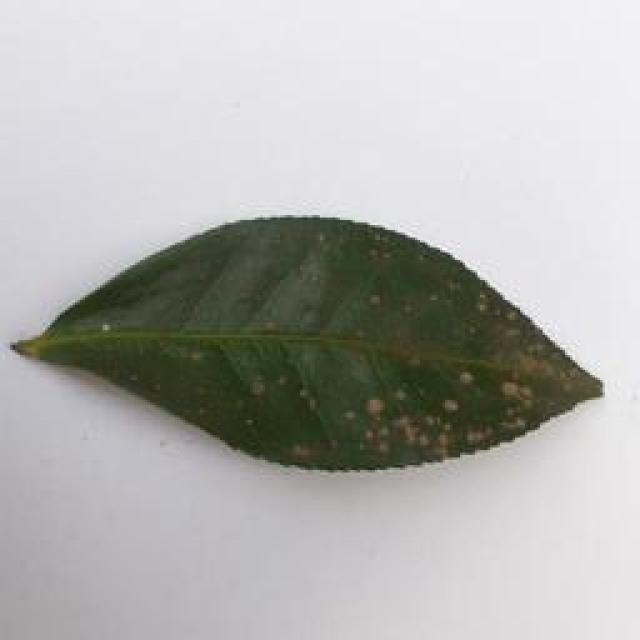Algal Leaf Spot: (10, 202, 597, 476)
